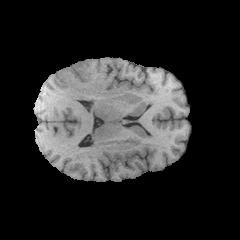glioma: (57, 61, 105, 102)
